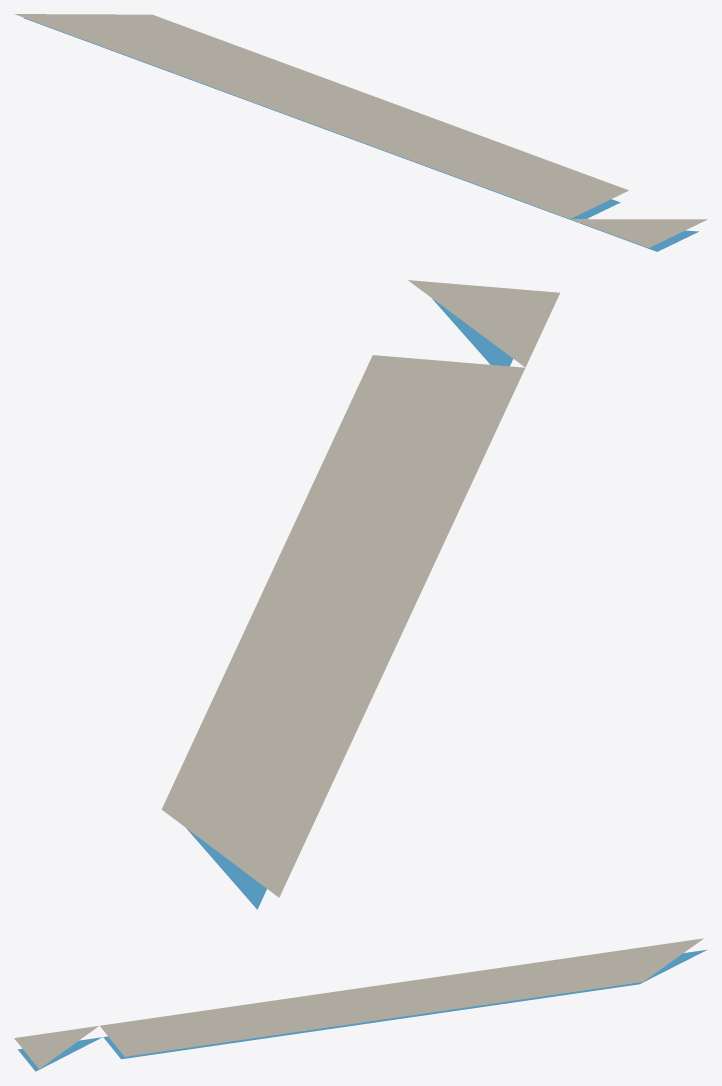
The picture shows the model from 3 angles, top to bottom: view 1: azimuth 30°, elevation 25°; view 2: azimuth 150°, elevation 25°; view 3: azimuth 270°, elevation 25°; orthographic projection. The views are drawn at different scales.
Visible parts, largest first — view 1: estructura_terreno, estructura_agua; view 2: estructura_terreno, estructura_agua; view 3: estructura_terreno, estructura_agua.
Boxes of the visible parts, x1,y1,x2,y2 form: estructura_terreno: (14,14,707,247); estructura_agua: (23,18,698,251); estructura_terreno: (161,280,559,897); estructura_agua: (186,298,512,909); estructura_terreno: (14,938,703,1068); estructura_agua: (18,949,707,1071).
Size of the model in its own units: 16.72 by 0.41 by 37.43.
